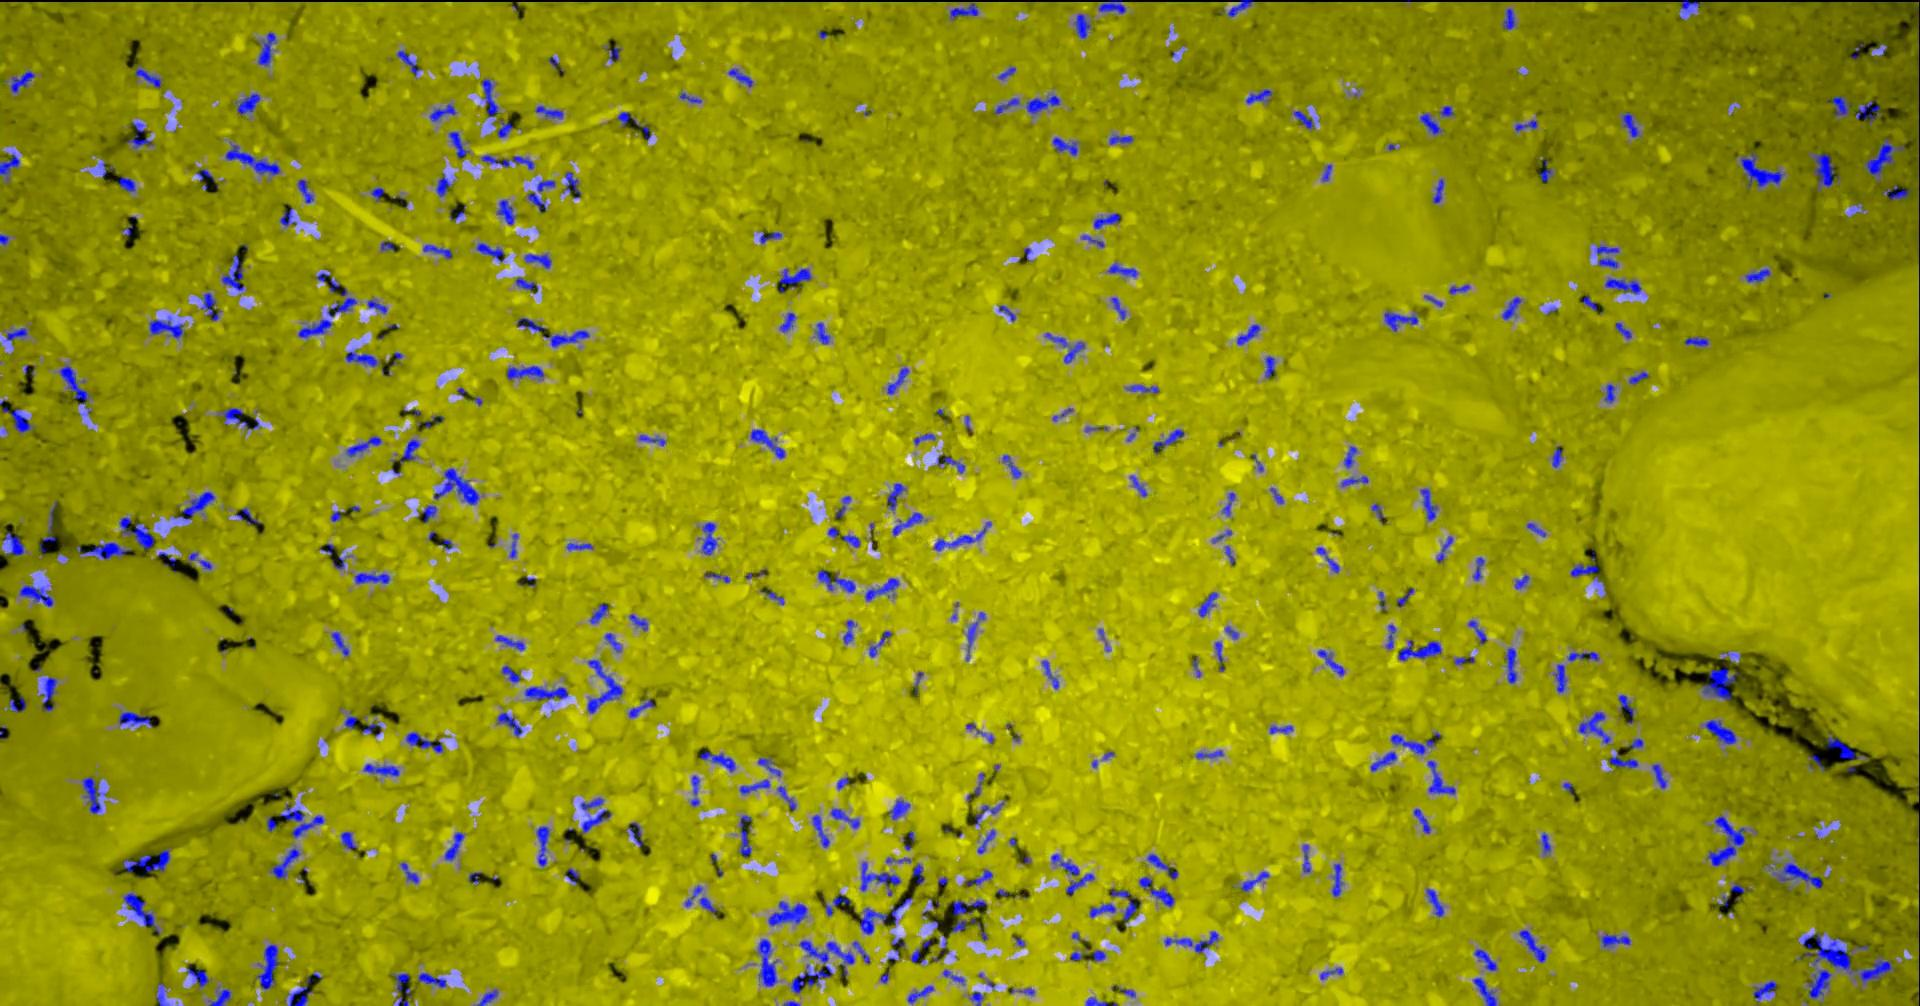ant: (790, 940, 855, 992), (858, 897, 910, 934), (587, 659, 622, 713), (1707, 815, 1745, 865), (1864, 137, 1903, 180), (433, 467, 479, 504), (933, 521, 990, 550), (225, 144, 279, 174), (1738, 152, 1783, 188), (278, 803, 323, 837), (123, 892, 159, 934), (860, 861, 900, 895), (1044, 332, 1084, 363), (1702, 667, 1738, 700), (58, 365, 89, 404), (1775, 862, 1822, 888), (173, 492, 215, 520), (122, 848, 169, 873), (1390, 732, 1440, 754), (1109, 889, 1140, 925), (119, 517, 154, 549), (1138, 876, 1175, 906), (1164, 931, 1217, 951), (0, 399, 32, 432), (1813, 152, 1840, 191), (1578, 711, 1610, 743), (1570, 551, 1603, 582), (616, 111, 650, 140), (255, 944, 277, 989), (750, 429, 783, 459), (1427, 760, 1455, 794), (767, 901, 806, 925), (1826, 733, 1862, 760), (1397, 639, 1440, 661), (757, 937, 776, 986), (39, 500, 56, 554), (1519, 929, 1545, 962), (817, 569, 855, 592), (270, 847, 298, 878), (328, 287, 356, 316), (480, 154, 533, 169), (527, 180, 554, 211), (76, 542, 130, 558), (951, 917, 987, 940), (1145, 854, 1177, 879), (405, 730, 442, 752), (698, 749, 735, 771), (149, 315, 183, 338), (863, 577, 898, 600), (284, 976, 311, 1005), (221, 254, 243, 290), (345, 434, 381, 456), (778, 268, 810, 292), (1152, 429, 1183, 453), (83, 776, 103, 813), (124, 122, 152, 149), (1704, 719, 1735, 743), (542, 330, 589, 345), (891, 512, 922, 535), (19, 586, 53, 606), (1317, 649, 1343, 674), (392, 439, 420, 464), (1472, 977, 1496, 1005), (1384, 311, 1417, 332), (697, 521, 717, 554), (974, 801, 1003, 824), (1808, 969, 1831, 998), (257, 32, 276, 66), (1025, 94, 1059, 113), (582, 809, 610, 832), (480, 77, 497, 116), (396, 50, 420, 75), (297, 319, 331, 337), (1604, 277, 1641, 293), (524, 686, 568, 700), (1051, 854, 1079, 875), (1065, 873, 1095, 893), (811, 814, 829, 847), (1316, 546, 1338, 572), (869, 631, 891, 657), (497, 713, 522, 735), (1854, 100, 1881, 122), (886, 367, 908, 394), (830, 808, 858, 828), (1219, 0, 1253, 17), (1418, 488, 1436, 520), (444, 831, 463, 860), (1239, 871, 1269, 890), (1595, 245, 1619, 268), (448, 131, 469, 158), (221, 406, 248, 427), (41, 676, 56, 711), (823, 894, 850, 915), (907, 984, 933, 1005), (0, 152, 19, 180), (201, 292, 220, 320), (505, 365, 543, 379), (1473, 948, 1496, 970), (10, 70, 34, 91), (1608, 749, 1637, 767), (1370, 751, 1396, 771), (536, 826, 549, 866), (119, 711, 152, 727), (952, 899, 985, 915), (476, 243, 504, 260), (234, 507, 262, 525), (1425, 888, 1443, 916), (236, 93, 259, 114), (315, 272, 339, 292), (1236, 324, 1260, 344), (3, 531, 23, 555), (910, 937, 931, 962), (1752, 981, 1777, 1001), (135, 67, 160, 86), (495, 634, 524, 650), (739, 815, 750, 857), (937, 455, 964, 473), (1418, 112, 1440, 133), (1501, 296, 1521, 319), (345, 351, 376, 366), (739, 779, 770, 794), (888, 483, 904, 511), (1041, 661, 1058, 688), (1002, 453, 1021, 478), (1197, 592, 1217, 616), (1467, 619, 1486, 643), (977, 829, 996, 854), (392, 973, 411, 997), (429, 103, 455, 121), (1622, 112, 1639, 137), (1051, 137, 1077, 155), (497, 199, 514, 225), (629, 699, 654, 716), (363, 763, 399, 776), (965, 621, 977, 661), (949, 3, 978, 18), (1618, 694, 1633, 723), (417, 972, 446, 987), (564, 171, 580, 198), (1827, 95, 1849, 116), (888, 799, 909, 819), (757, 757, 780, 776), (185, 967, 208, 986), (728, 69, 752, 86), (777, 786, 795, 810), (1244, 88, 1272, 103), (422, 244, 452, 258), (523, 253, 551, 268), (516, 318, 546, 332), (1600, 934, 1630, 948), (1505, 647, 1516, 683), (993, 97, 1018, 113), (1413, 808, 1430, 833), (966, 869, 992, 885), (1107, 262, 1137, 276), (1436, 535, 1451, 561), (207, 987, 230, 1005), (759, 588, 783, 605), (331, 631, 348, 655), (626, 822, 643, 846), (354, 572, 389, 583), (1074, 13, 1090, 38), (1293, 111, 1313, 130), (1883, 184, 1909, 199), (188, 553, 211, 569), (1331, 862, 1342, 895), (1093, 213, 1120, 227), (1553, 663, 1566, 692), (1651, 763, 1666, 788), (1730, 882, 1749, 901), (400, 862, 418, 883), (684, 885, 702, 906), (698, 895, 716, 916), (516, 277, 537, 293), (852, 941, 869, 963), (535, 105, 563, 118), (1743, 268, 1769, 282), (1090, 903, 1115, 917), (297, 179, 312, 202), (1098, 0, 1125, 13), (157, 553, 175, 572), (1396, 587, 1413, 606), (589, 603, 607, 622), (842, 619, 856, 643), (1129, 475, 1145, 495), (5, 326, 27, 342), (942, 969, 964, 984), (436, 173, 450, 196), (1222, 492, 1236, 514), (580, 796, 603, 810), (279, 207, 296, 226), (629, 614, 648, 630), (604, 633, 621, 652), (502, 666, 521, 682), (476, 989, 497, 1005), (757, 230, 781, 243), (1472, 556, 1484, 580), (1341, 475, 1368, 486), (1111, 297, 1125, 319), (836, 495, 850, 517), (1214, 641, 1224, 671), (603, 44, 620, 62), (1581, 293, 1597, 311), (1680, 0, 1699, 15), (497, 118, 512, 137), (1081, 234, 1103, 246), (778, 312, 794, 332), (1319, 967, 1342, 979), (815, 323, 829, 343), (361, 721, 381, 735), (910, 862, 924, 883), (1126, 384, 1158, 392), (1567, 652, 1599, 661), (1502, 8, 1515, 29), (1539, 159, 1552, 180), (1343, 446, 1356, 467), (998, 305, 1015, 321), (639, 434, 665, 445), (690, 775, 698, 805), (340, 831, 356, 848), (367, 298, 386, 312), (1526, 522, 1545, 536), (1514, 119, 1537, 131), (1550, 445, 1562, 467), (1302, 843, 1310, 873), (1432, 178, 1443, 203), (1628, 371, 1648, 384), (841, 533, 858, 547), (8, 697, 25, 711), (1195, 749, 1223, 758), (913, 433, 935, 445), (156, 983, 168, 1005), (1263, 354, 1274, 379), (1385, 624, 1396, 648), (196, 168, 215, 180), (891, 937, 904, 956), (1109, 133, 1131, 144), (1615, 323, 1630, 338), (564, 868, 579, 883), (118, 177, 135, 191), (422, 506, 436, 522), (997, 66, 1015, 79), (679, 91, 701, 102), (1684, 337, 1708, 345), (1514, 574, 1529, 588), (1542, 831, 1550, 854), (1084, 996, 1107, 1005), (969, 991, 983, 1005), (566, 542, 592, 550), (1448, 285, 1469, 293), (509, 533, 517, 558), (1604, 384, 1614, 401), (1454, 655, 1474, 664), (370, 187, 383, 199), (1269, 725, 1291, 733), (1917, 48, 1919, 180), (1321, 164, 1331, 180), (344, 715, 357, 728), (1090, 950, 1105, 960), (265, 817, 276, 831), (1440, 105, 1453, 116)
